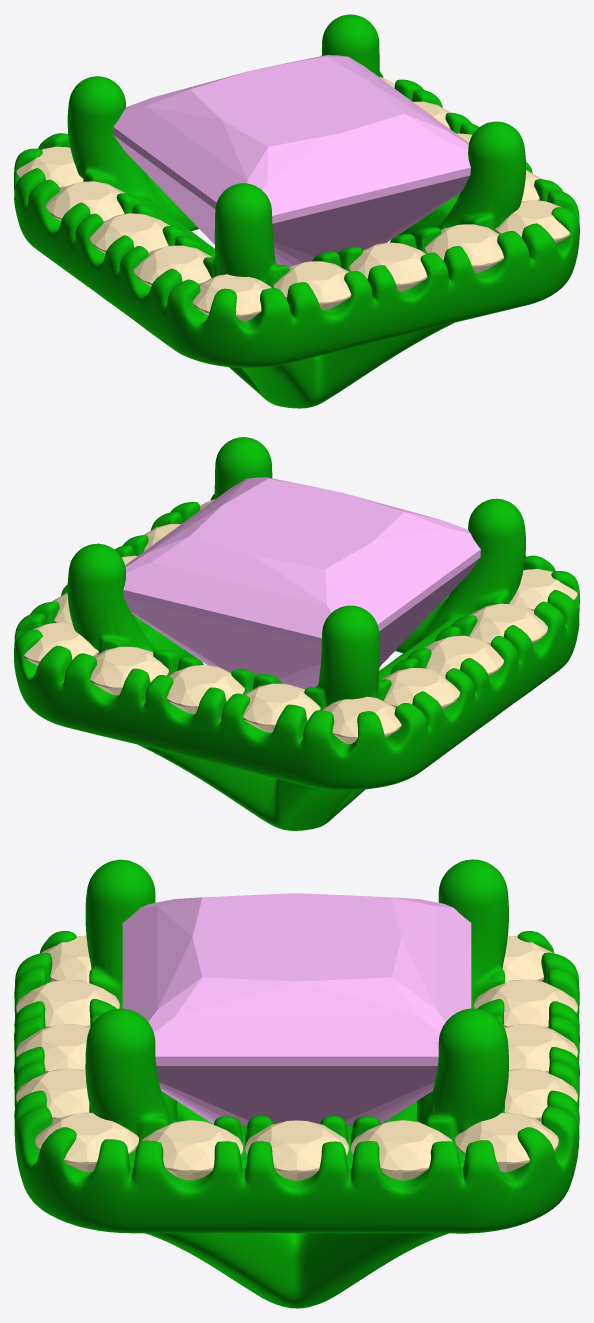
The picture shows the model from 3 angles, top to bottom: view 1: azimuth 30°, elevation 25°; view 2: azimuth 150°, elevation 25°; view 3: azimuth 270°, elevation 25°; orthographic projection. The views are drawn at different scales.
Visible parts, largest first — view 1: Metal01, Diamond_Princess, Diamond_Round.014, Diamond_Round.013, Diamond_Round.015, Diamond_Round.002, Diamond_Round.001, Diamond_Round.003, Diamond_Round, Diamond_Round.012, Diamond_Round.004; view 2: Metal01, Diamond_Princess, Diamond_Round.006, Diamond_Round.007, Diamond_Round.005, Diamond_Round.003, Diamond_Round.002, Diamond_Round.001, Diamond_Round.004, Diamond_Round.008, Diamond_Round; view 3: Metal01, Diamond_Princess, Diamond_Round.010, Diamond_Round.009, Diamond_Round.011, Diamond_Round.008, Diamond_Round.015, Diamond_Round.005, Diamond_Round.012, Diamond_Round.013, Diamond_Round.014, Diamond_Round.007 (+3 smaller).
Part boxes in pixels (x1,y1,x2,y2): Metal01: (14,14,579,408); Diamond_Princess: (113,55,470,266); Diamond_Round.014: (349,242,427,291); Diamond_Round.013: (425,224,503,272); Diamond_Round.015: (273,261,351,310); Diamond_Round.002: (90,213,169,253); Diamond_Round.001: (134,245,212,286); Diamond_Round.003: (46,181,125,221); Diamond_Round: (192,274,271,321); Diamond_Round.012: (495,200,570,243); Diamond_Round.004: (16,146,83,189); Metal01: (14,437,579,830); Diamond_Princess: (123,477,480,689); Diamond_Round.006: (166,665,244,713); Diamond_Round.007: (90,646,168,695); Diamond_Round.005: (242,683,320,732); Diamond_Round.003: (382,668,460,709); Diamond_Round.002: (424,635,503,675); Diamond_Round.001: (469,603,547,644); Diamond_Round.004: (322,696,401,744); Diamond_Round.008: (23,622,98,665); Diamond_Round: (509,569,577,611); Metal01: (14,859,579,1308); Diamond_Princess: (122,893,471,1125); Diamond_Round.010: (245,1120,348,1180); Diamond_Round.009: (351,1120,452,1180); Diamond_Round.011: (141,1120,242,1180); Diamond_Round.008: (455,1112,558,1172); Diamond_Round.015: (16,979,119,1027); Diamond_Round.005: (474,979,577,1027); Diamond_Round.012: (35,1112,138,1172); Diamond_Round.013: (16,1068,89,1122); Diamond_Round.014: (16,1024,90,1072); Diamond_Round.007: (504,1068,577,1122).
Bounding box in the file's own units: 8.2 × 5.74 × 8.2.
